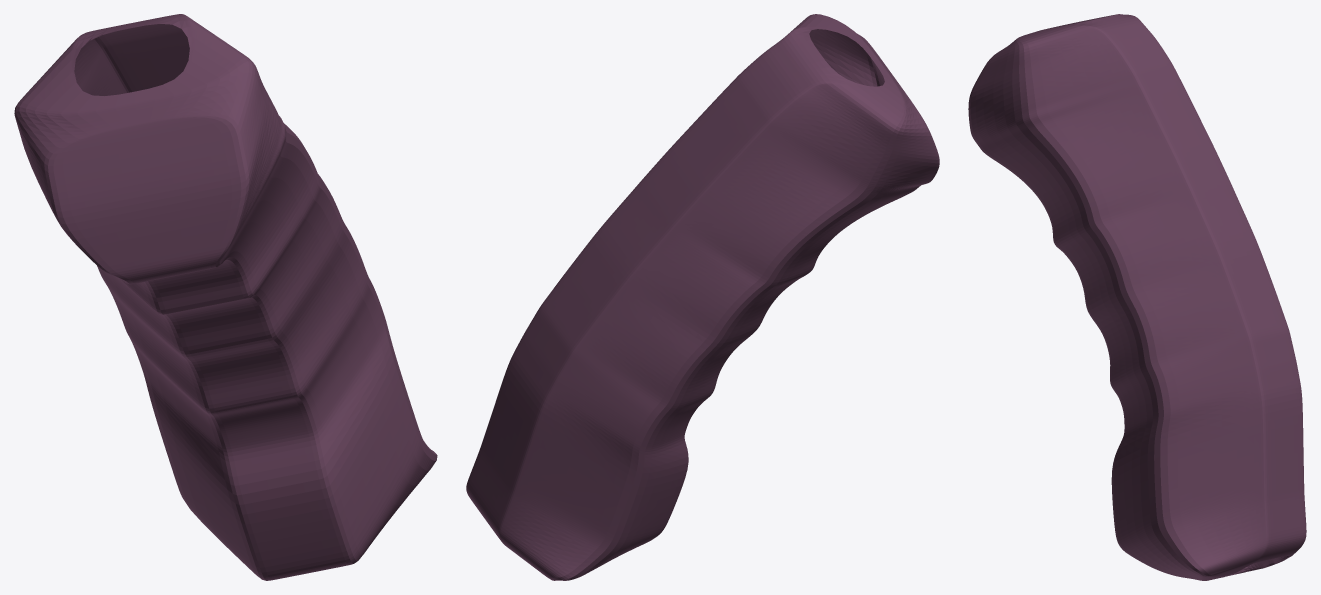
Rendered from flightclub_grip.glb.
The picture shows the model from 3 angles, left to right: view 1: azimuth 30°, elevation 25°; view 2: azimuth 150°, elevation 25°; view 3: azimuth 270°, elevation 25°; orthographic projection. The views are drawn at different scales.
Size of the model in its own units: 4.13 by 5.28 by 3.38.
